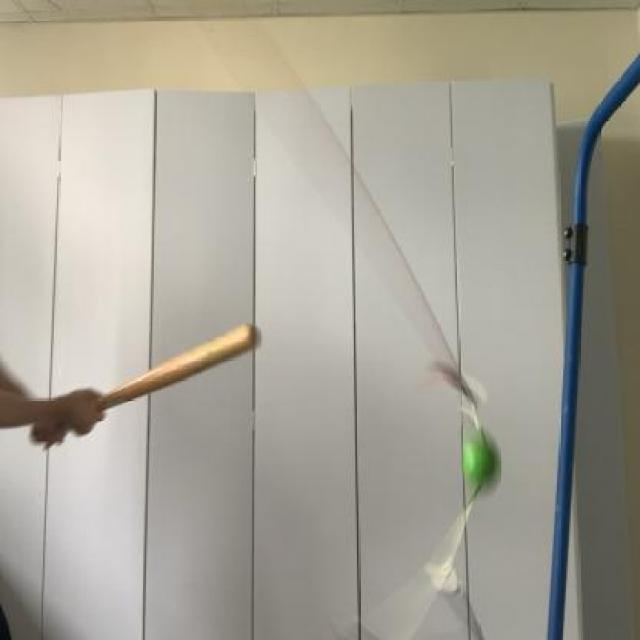baseball: (448, 420, 514, 491)
